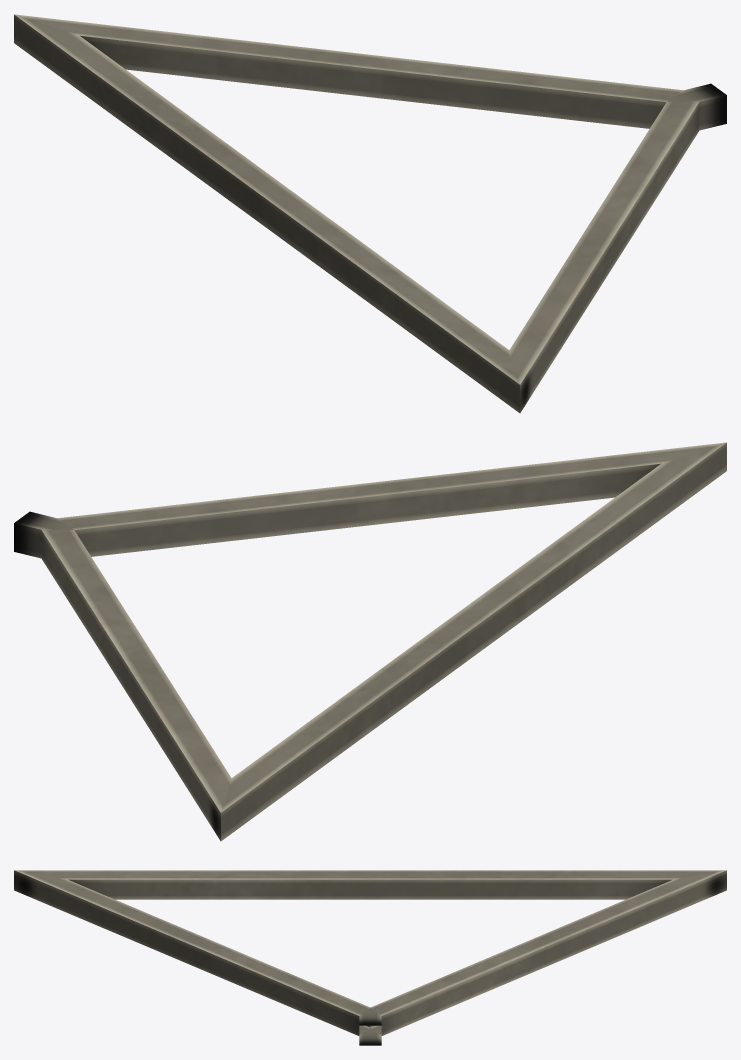
The model's file is big_bar.obj.
3 views of the same model, one above another, from view 1: azimuth 30°, elevation 25°; view 2: azimuth 150°, elevation 25°; view 3: azimuth 270°, elevation 25° (orthographic). The views are drawn at different scales.
Visible parts, largest first — view 1: 1; view 2: 1; view 3: 1.
Part boxes in pixels (x1=…): 1: x1=14, y1=14, x2=726, y2=413; 1: x1=14, y1=442, x2=726, y2=841; 1: x1=14, y1=870, x2=726, y2=1045.
Size of the model in its own units: 0.4125 by 0.025 by 0.8.
1 material, 1 textured.
